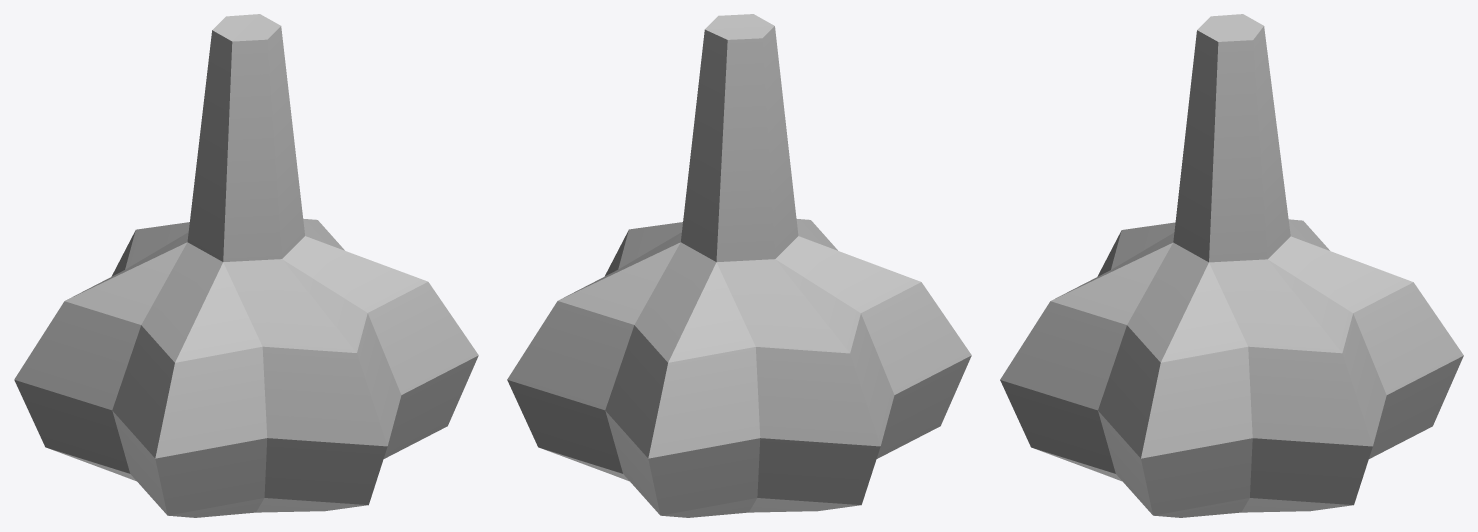
The model's file is garlic.glb.
The picture shows the model from 3 angles, left to right: view 1: azimuth 30°, elevation 25°; view 2: azimuth 150°, elevation 25°; view 3: azimuth 270°, elevation 25°; orthographic projection.
Visible parts, largest first — view 1: garlic; view 2: garlic; view 3: garlic.
Part boxes in pixels (box(x1,y1,x2,y2)): garlic: box(14, 14, 478, 517); garlic: box(507, 14, 971, 517); garlic: box(1000, 14, 1463, 517).
Bounding box in the file's own units: 0.2135 × 0.2477 × 0.23.
1 material, 1 textured.
